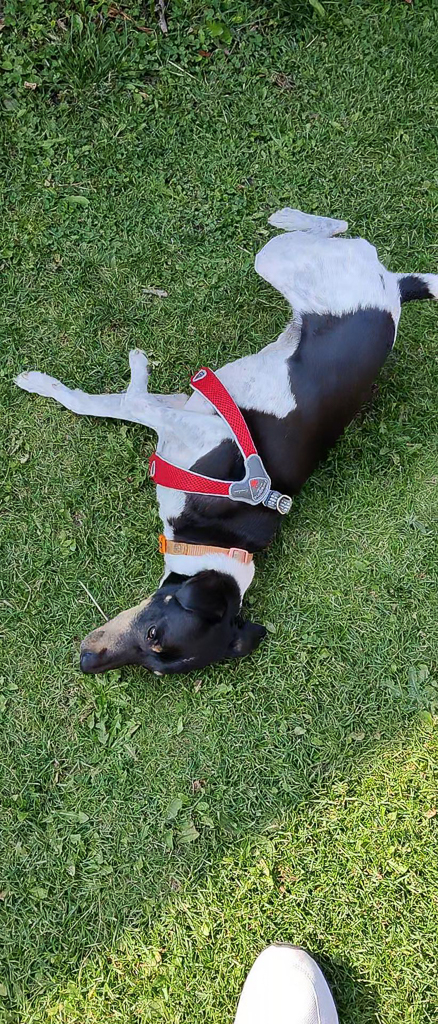Dog: (8, 197, 438, 697)
Humanoid: (220, 936, 344, 1024)
